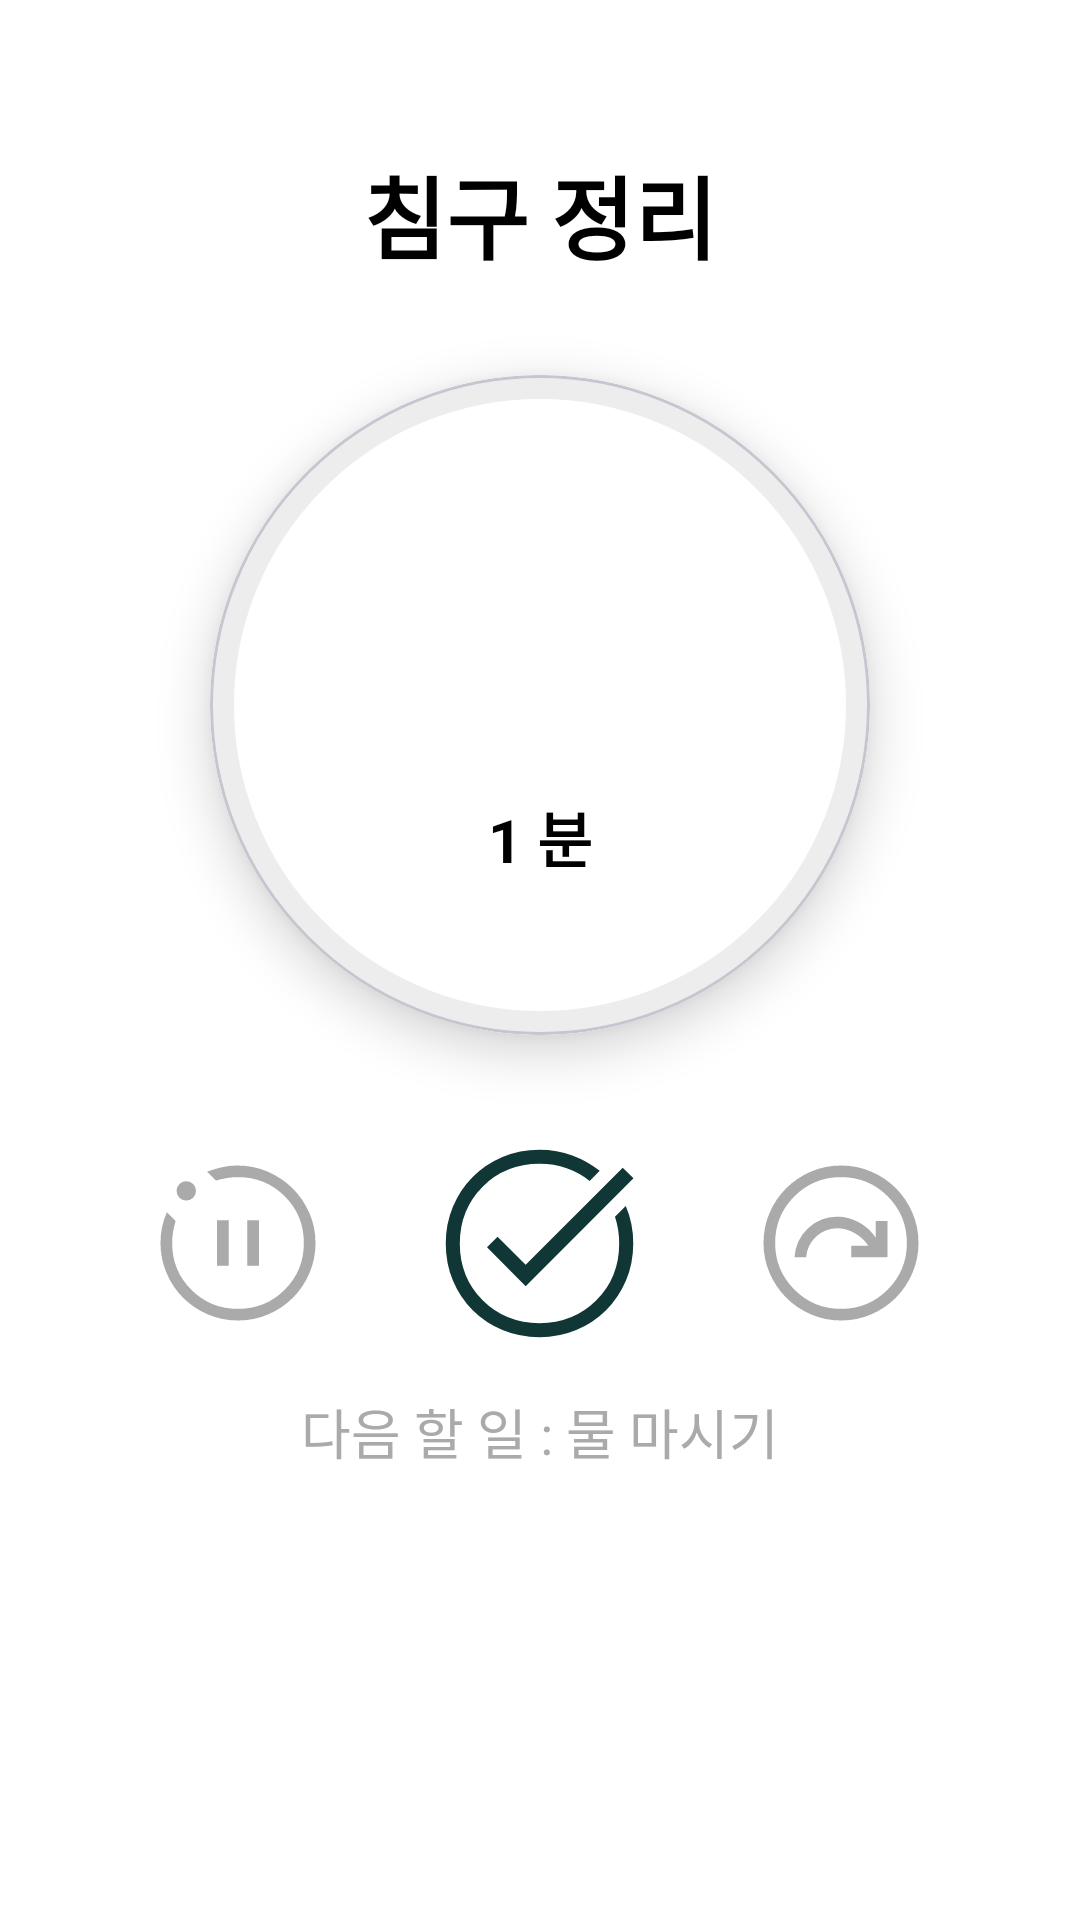

Named icons in this screenshot (1080px x 1920px) and their centers, (x,y):
check: (539,1243)
next: (841,1243)
pause: (238,1243)
